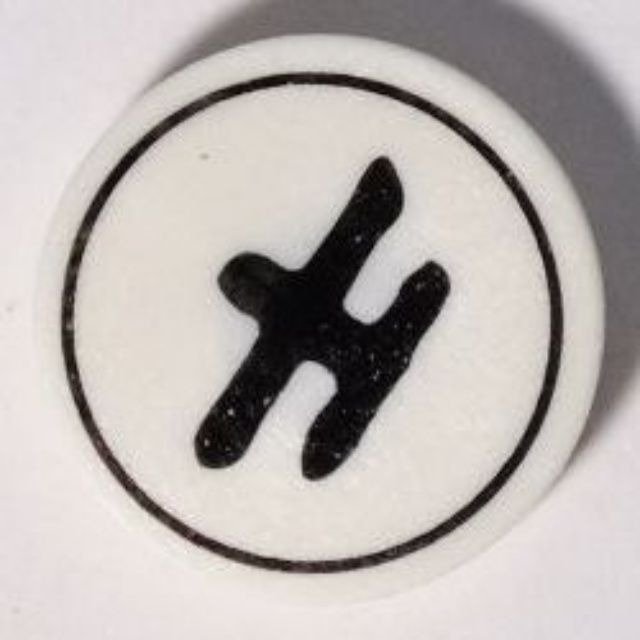black_si: (28, 37, 615, 589)
